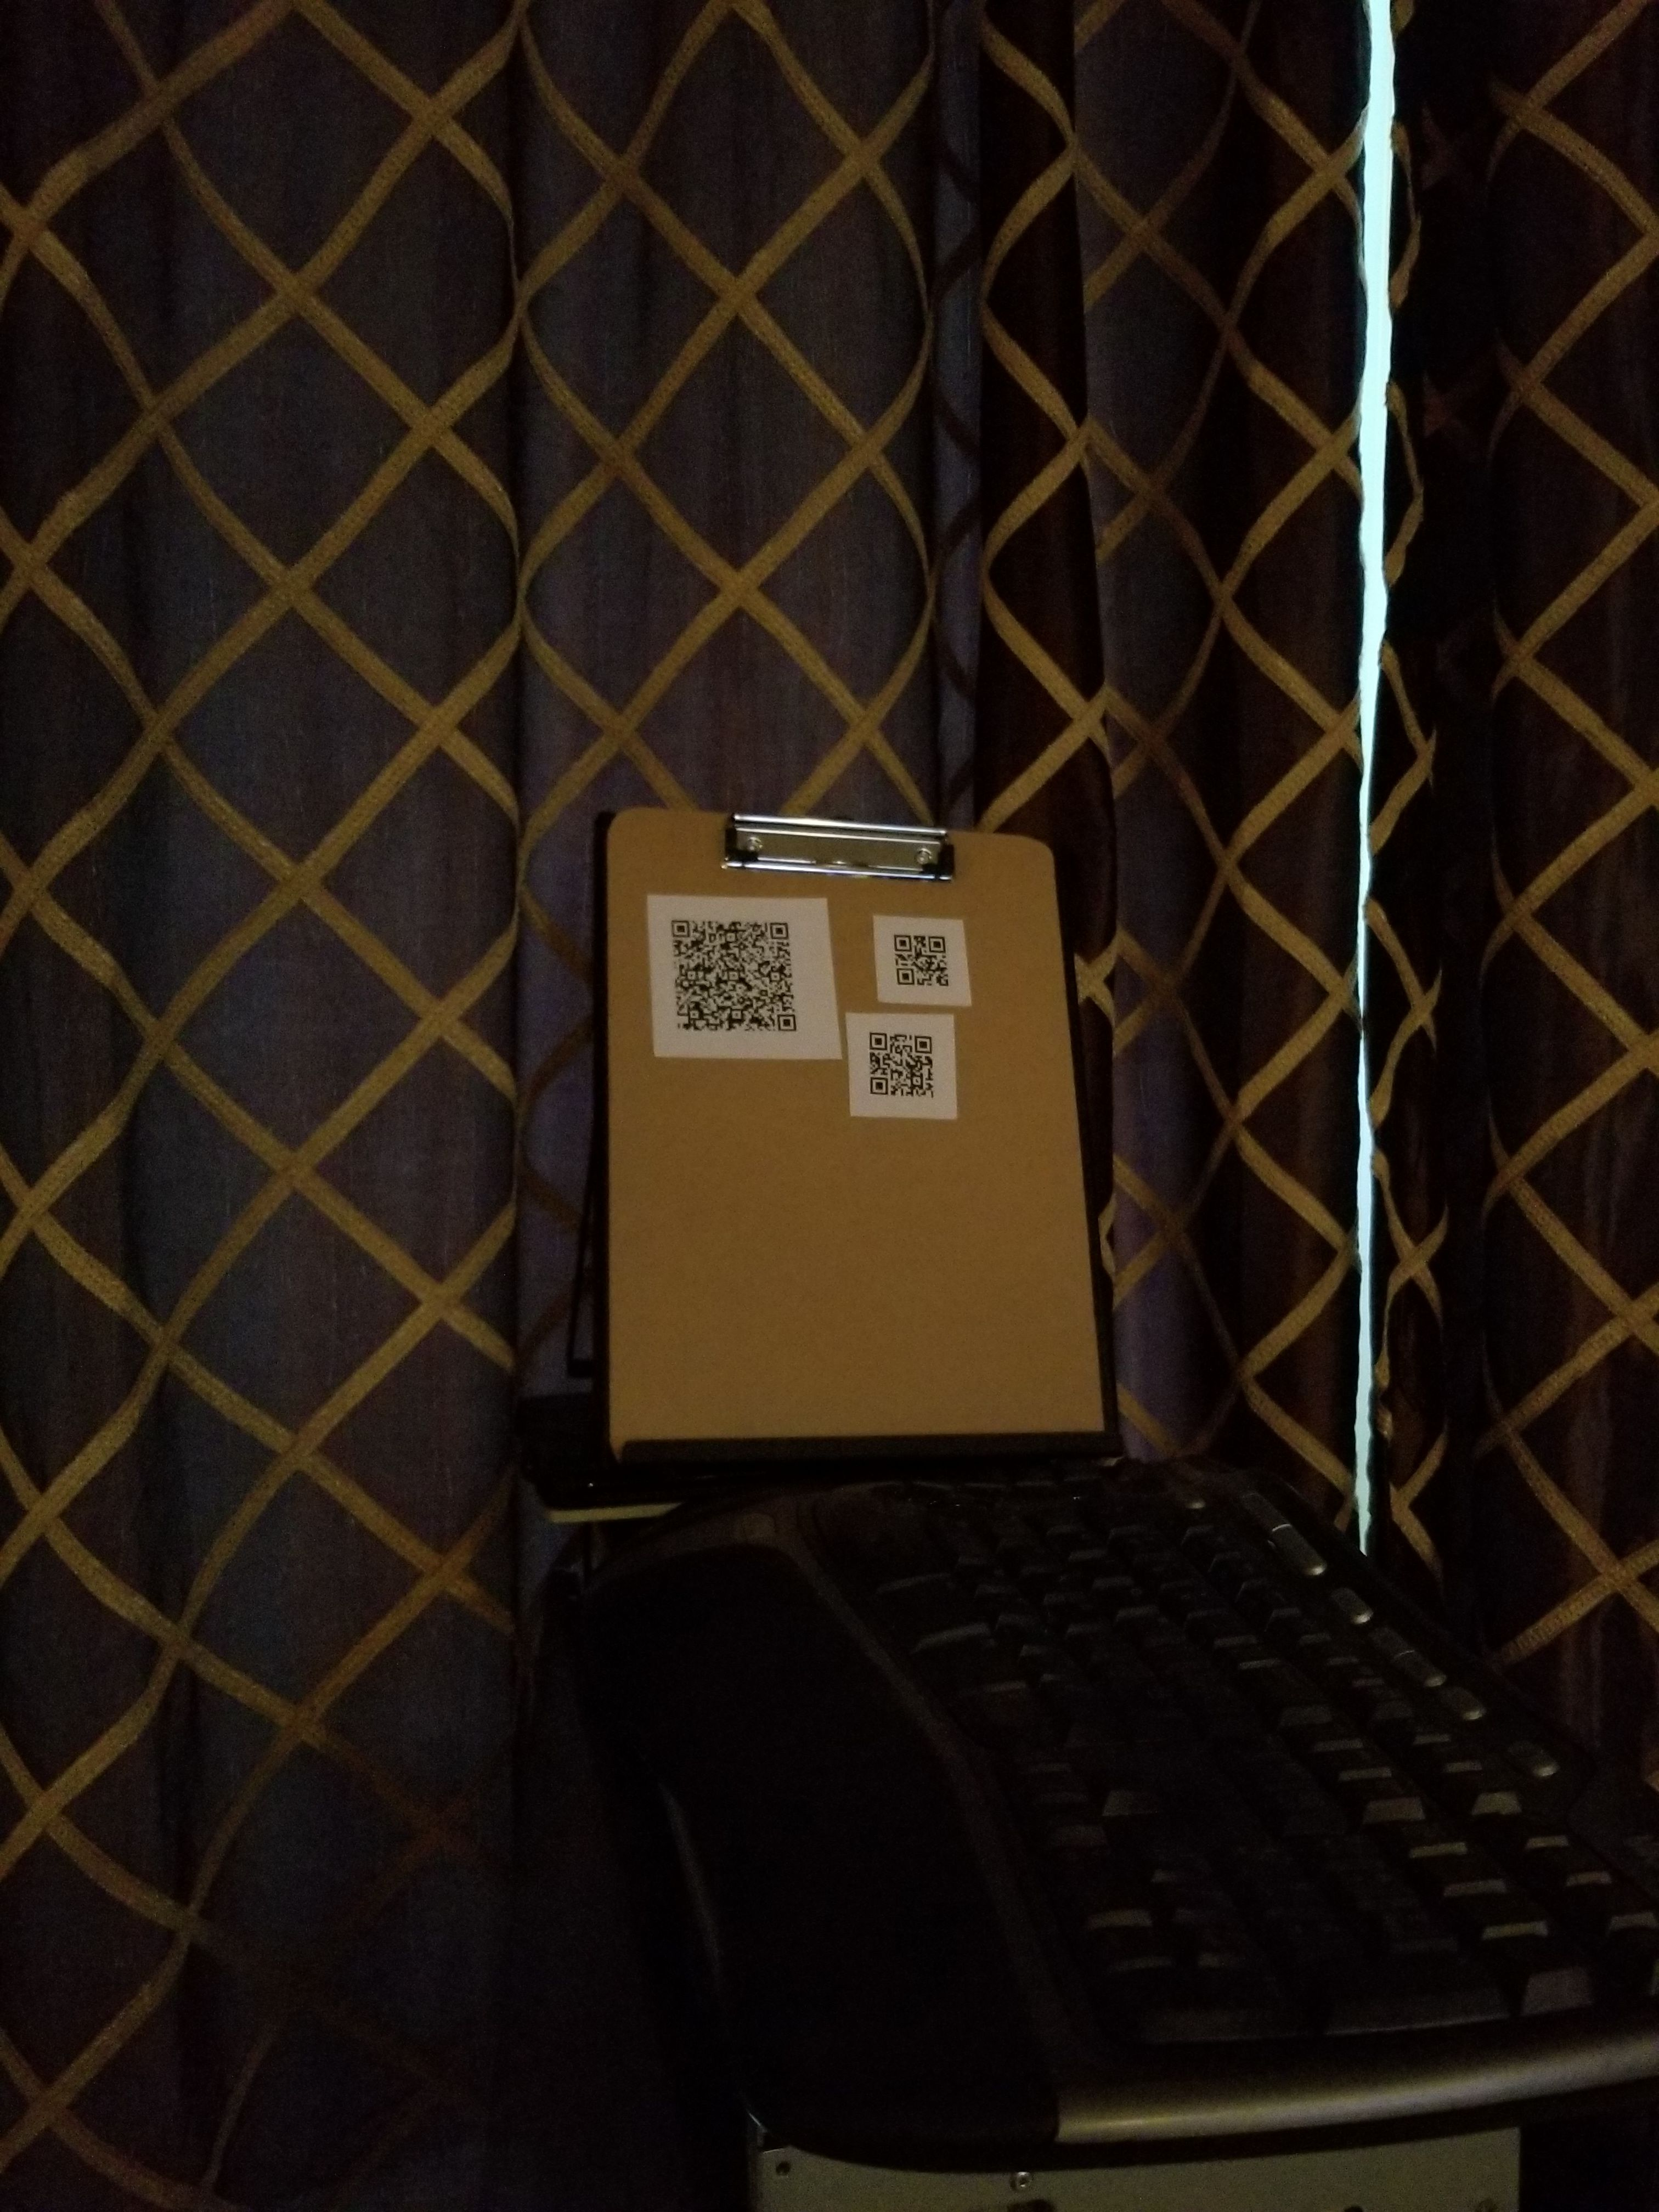QR_CODE: (657, 895, 805, 1055), (856, 1019, 958, 1122), (884, 916, 967, 1010)
